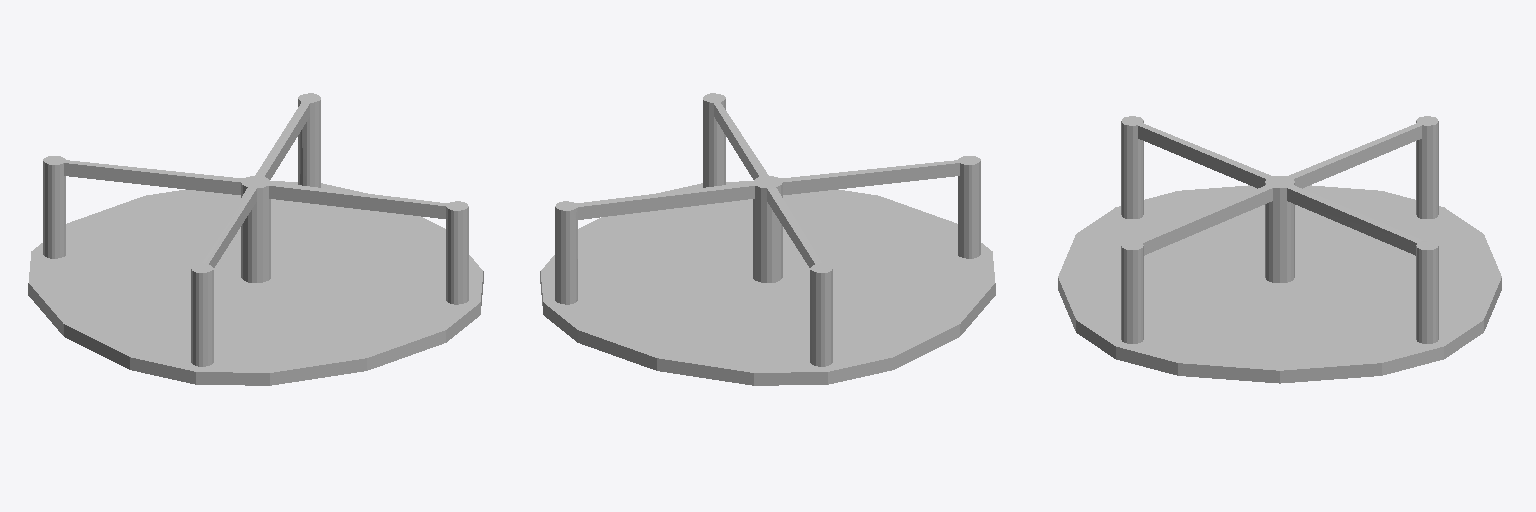
The model's file is Around.obj.
3 renders of one model, left to right at view 1: azimuth 30°, elevation 25°; view 2: azimuth 150°, elevation 25°; view 3: azimuth 270°, elevation 25°, orthographic.
Visible parts, largest first — view 1: pCube2; view 2: pCube2; view 3: pCube2.
Part boxes in pixels (left/top/right/bottom): pCube2: left=28, top=93, right=483, bottom=385; pCube2: left=540, top=93, right=995, bottom=385; pCube2: left=1058, top=116, right=1501, bottom=383.
Size of the model in its own units: 0.5606 by 0.2058 by 0.5606.